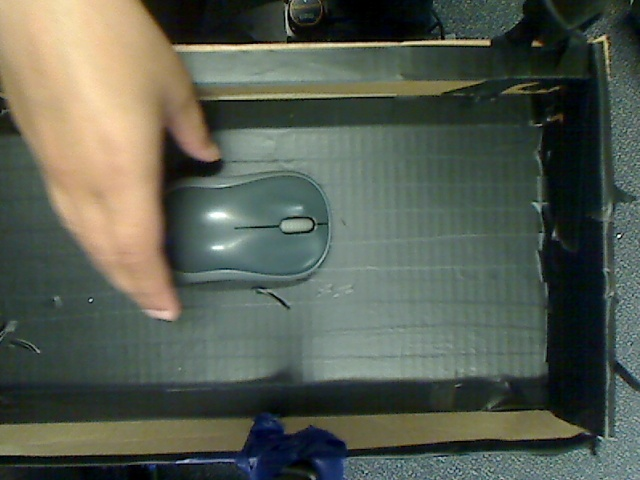mouse: (120, 156, 347, 299)
